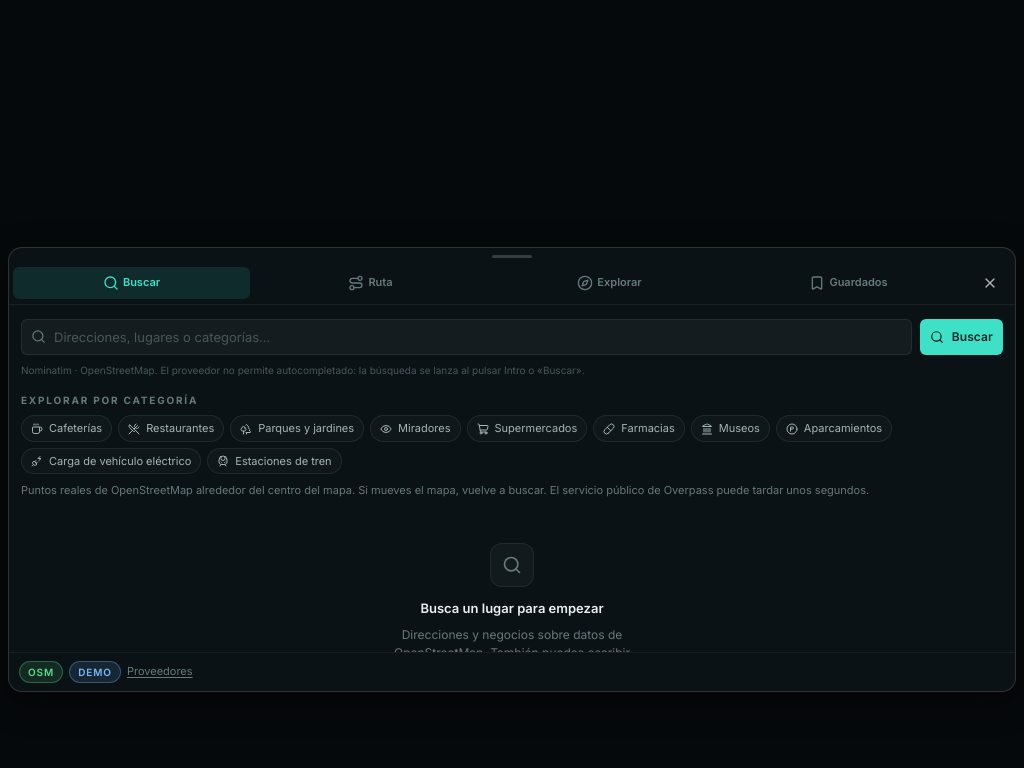
Test: bottom sheet móvil › alterna entre las dos alturas con clic
The width and height of the screenshot is (1024, 768).
What coordinates should you click on to do the following:
click the button named "Expandir panel"
I would click on:
 (512, 257)
Its box is 470,248 -> 554,266.
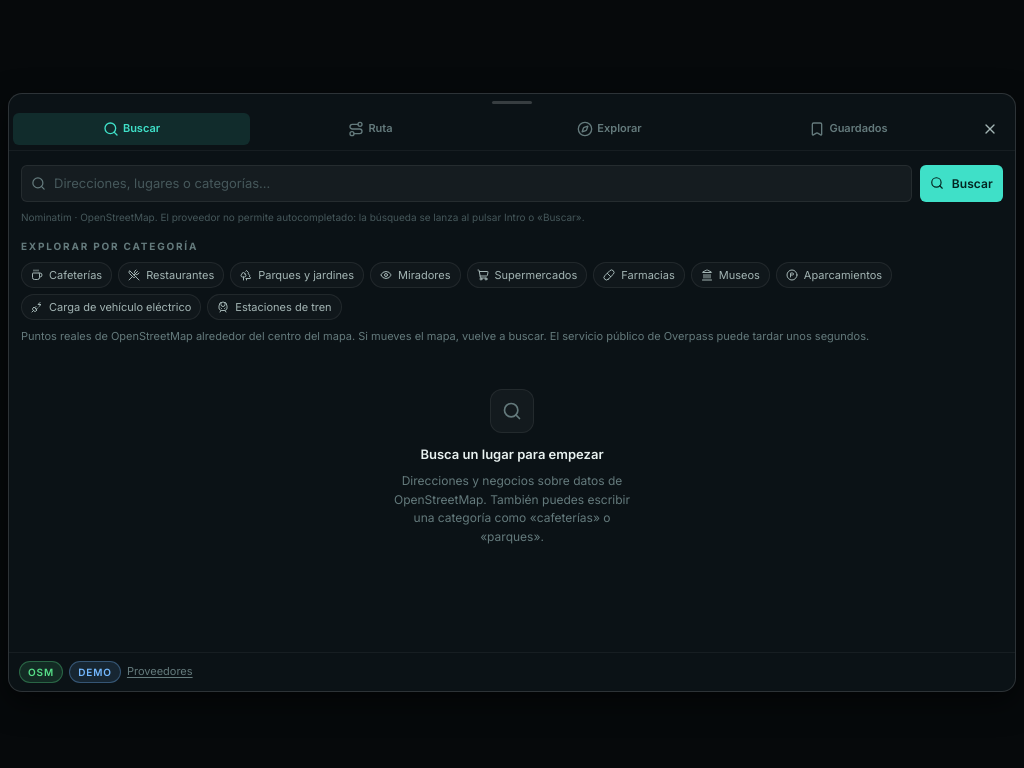
Expected: the button named "Contraer panel" is expanded
What coordinates should you click on to do the following:
click the button named "Contraer panel"
I would click on:
 (512, 103)
Its box is 470,94 -> 554,112.
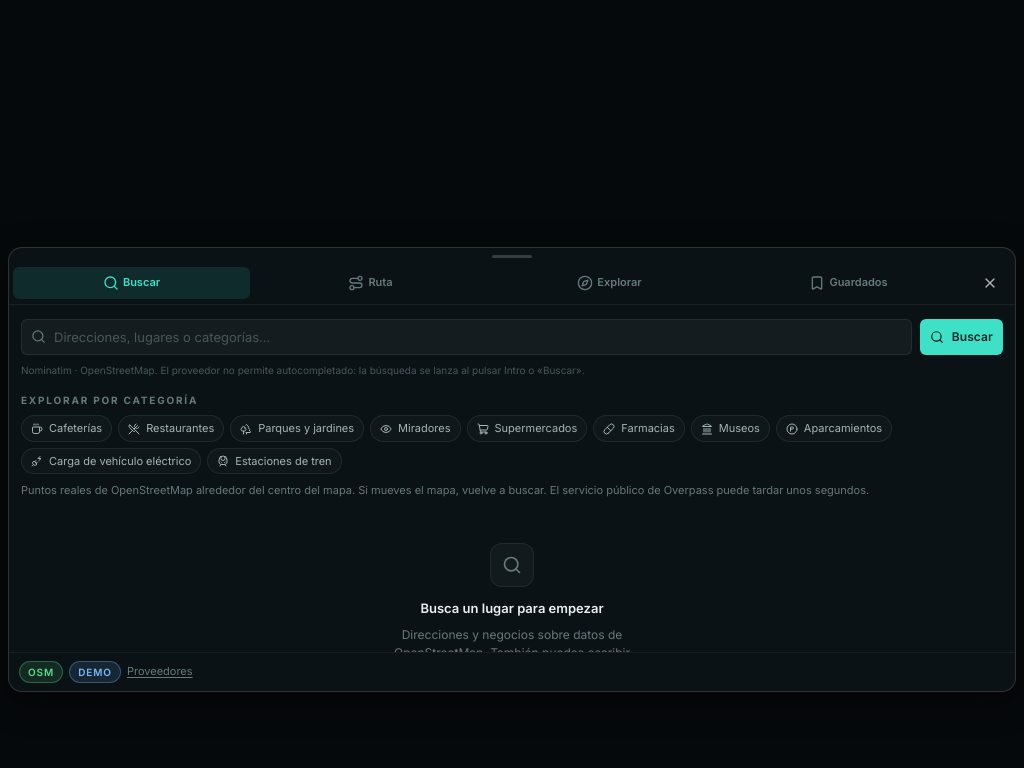
Expected: the button named "Expandir panel" is collapsed, 470,248 -> 554,266
